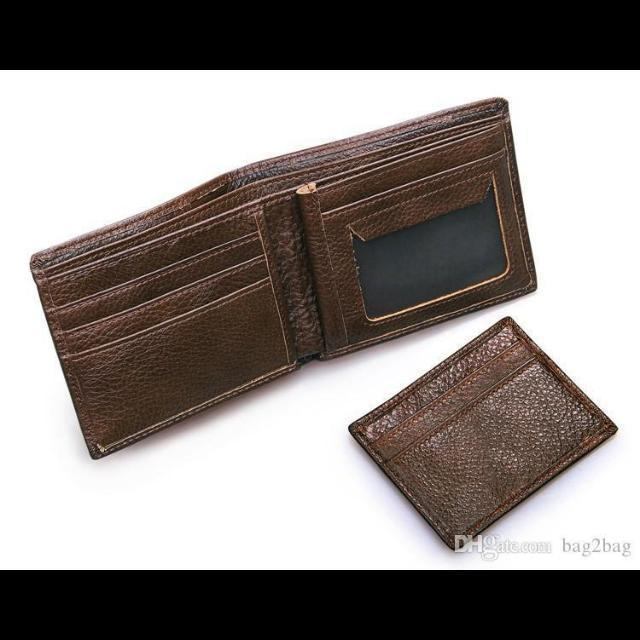wallet: (28, 89, 548, 463), (346, 314, 622, 554)
